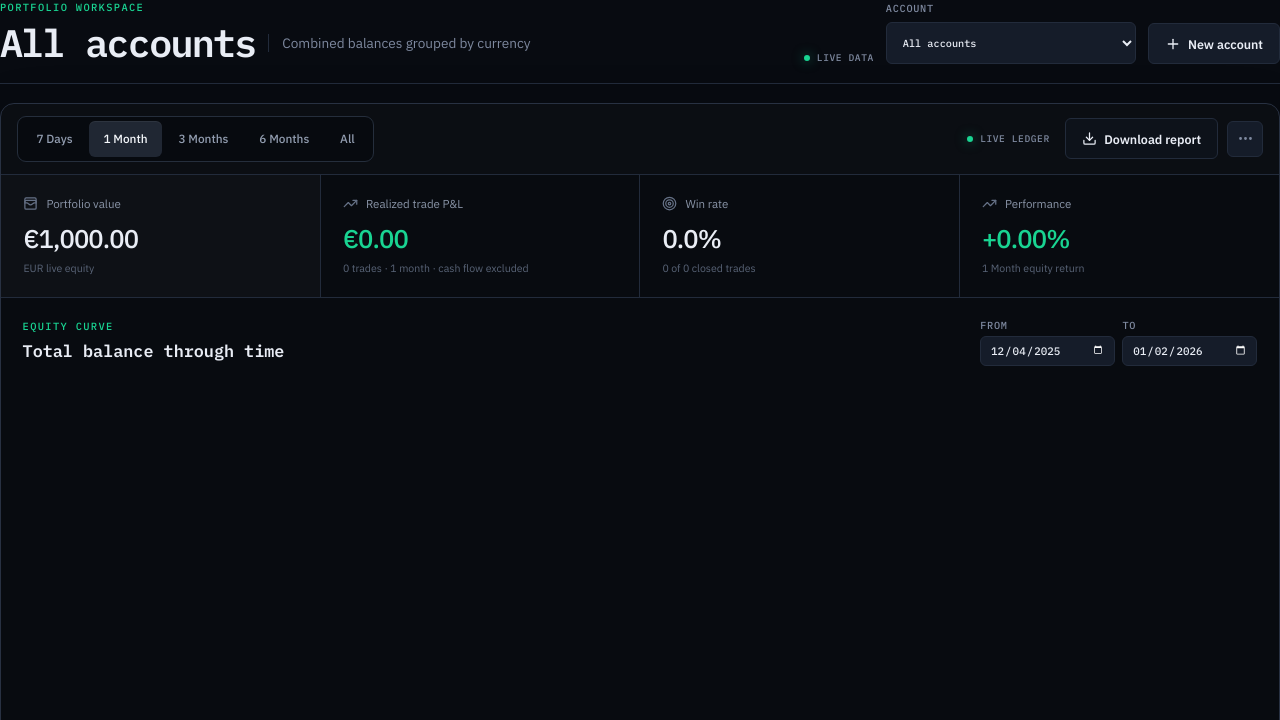
application pages › renders a total portfolio containing trading accounts
Check: the heading "Total balance through time" is shown, box [23,341,284,362]
Select "Primary · Trading Account" in the dropdown labelled "Account" at (1011, 43), box [886,22,1136,64]
(page scrolled)
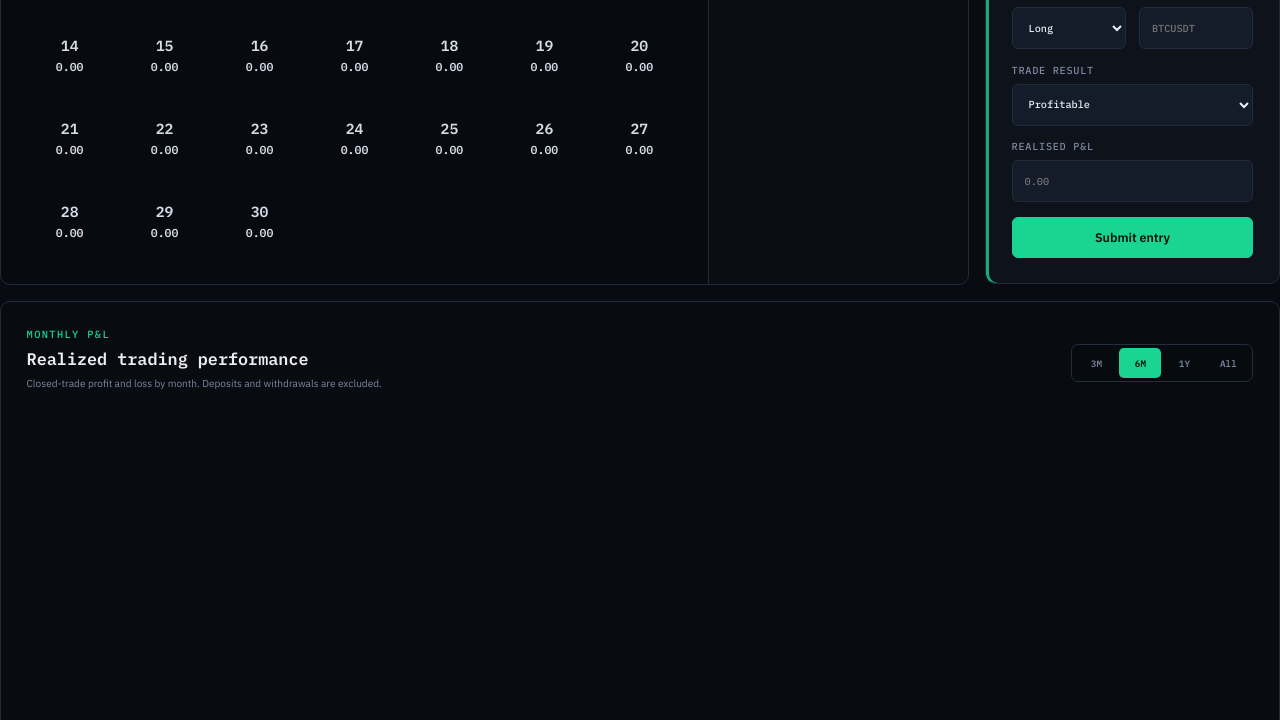
Check: the heading "Realized trading performance" is shown, box [27,348,308,370]
